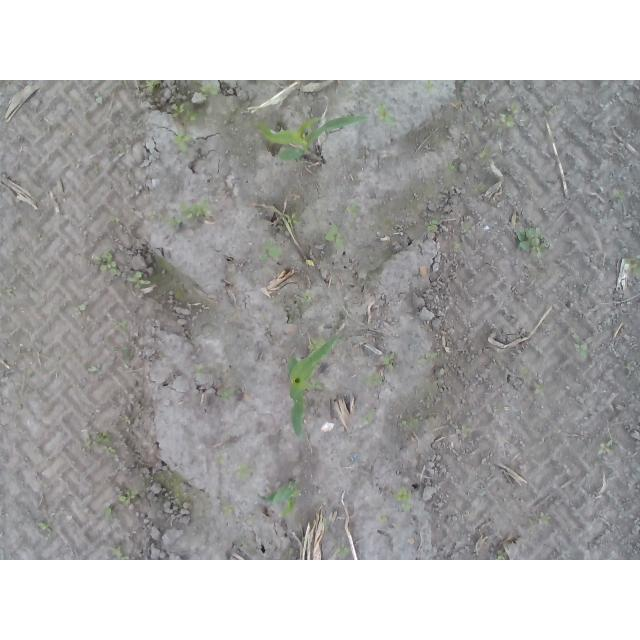Maize: (256, 114, 368, 163), (286, 337, 336, 439), (256, 478, 301, 518)
Weeds: (510, 224, 546, 257), (83, 431, 113, 457), (180, 199, 209, 225), (97, 248, 120, 275), (499, 100, 521, 128), (258, 239, 282, 263), (394, 487, 414, 514), (324, 224, 345, 249), (174, 101, 200, 121), (375, 97, 393, 125), (125, 271, 151, 289), (174, 128, 191, 153), (199, 81, 222, 98), (574, 343, 593, 362), (119, 487, 138, 506), (528, 511, 552, 526), (623, 255, 640, 275), (425, 215, 442, 234), (283, 211, 306, 225), (596, 440, 616, 456), (343, 200, 359, 220), (236, 463, 253, 481), (145, 80, 162, 98), (111, 544, 130, 560), (336, 543, 353, 560), (382, 351, 398, 369), (367, 369, 385, 385), (456, 423, 472, 441), (308, 337, 325, 352), (219, 384, 232, 401), (164, 216, 184, 227), (447, 159, 458, 178), (534, 384, 546, 401), (301, 288, 315, 302), (612, 185, 625, 200), (362, 409, 375, 424), (399, 418, 417, 428), (112, 319, 128, 330), (103, 505, 114, 520), (376, 513, 390, 524), (423, 352, 442, 360), (0, 287, 16, 296), (146, 210, 158, 222), (450, 99, 461, 111), (223, 502, 234, 514), (496, 550, 509, 560), (478, 148, 488, 161), (36, 522, 49, 531), (215, 455, 225, 466), (308, 382, 320, 391), (88, 366, 101, 374), (519, 367, 529, 377), (426, 81, 435, 92), (79, 304, 89, 313), (112, 216, 121, 225), (94, 95, 102, 105), (624, 362, 633, 370), (324, 519, 331, 529), (123, 416, 130, 425), (175, 492, 187, 497), (196, 367, 204, 374)
